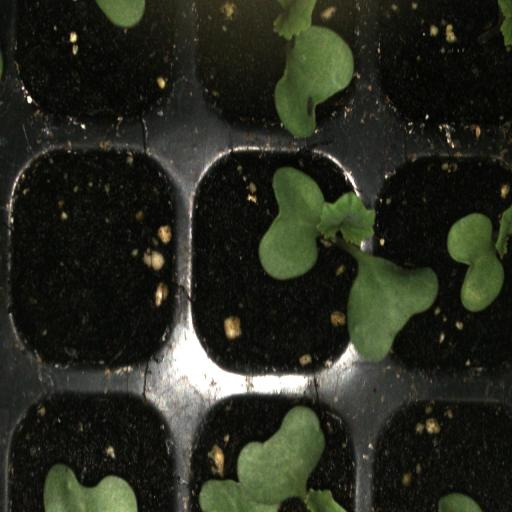Folha: (198, 405, 346, 512), (447, 206, 512, 312), (43, 464, 138, 512)
Germinacao: (192, 136, 370, 386), (188, 0, 370, 134)
